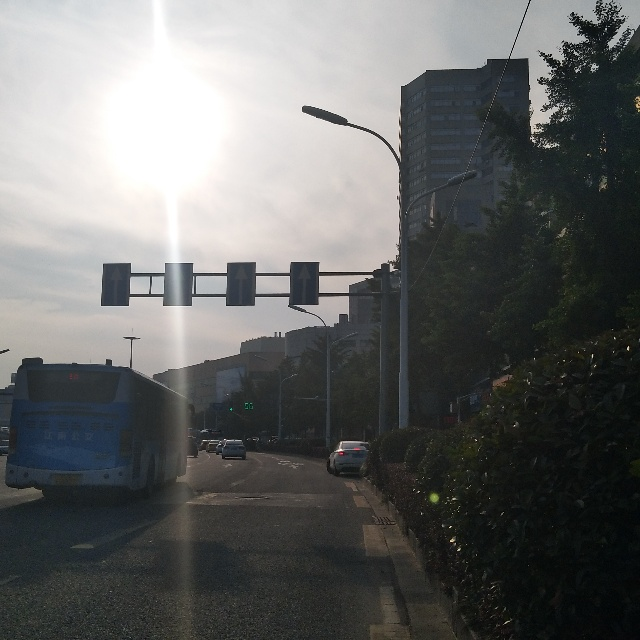straight: (162, 261, 197, 310), (223, 260, 258, 307), (288, 260, 320, 309), (101, 262, 132, 307)
